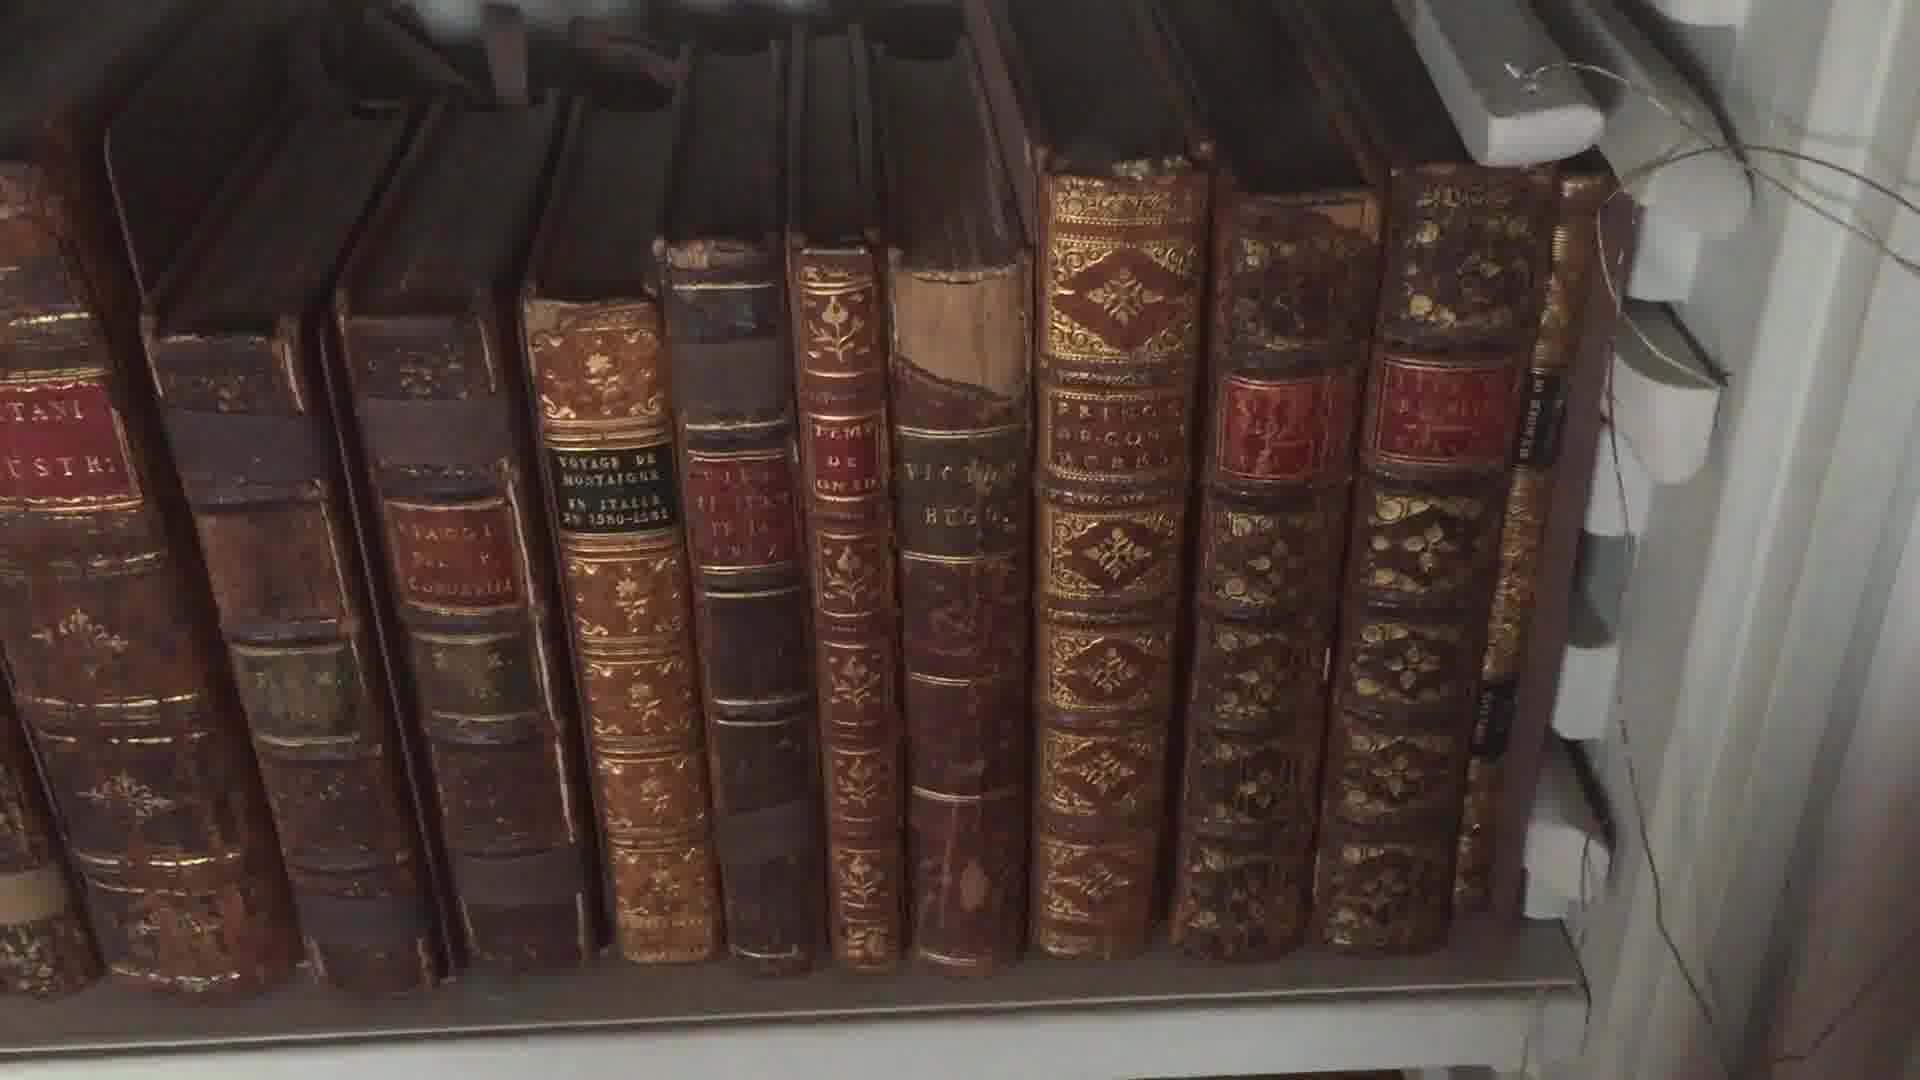Aa6-39_40: (92, 291, 621, 1025)
Aa6-41: (491, 273, 719, 963)
Aa6-42: (644, 248, 848, 1000)
Aa6-43: (782, 231, 916, 990)
Aa6-44: (877, 251, 1036, 975)
Aa6-45: (1029, 148, 1193, 990)
Aa6-46-47: (1185, 167, 1602, 949)
Aa6-48: (1447, 158, 1590, 967)
